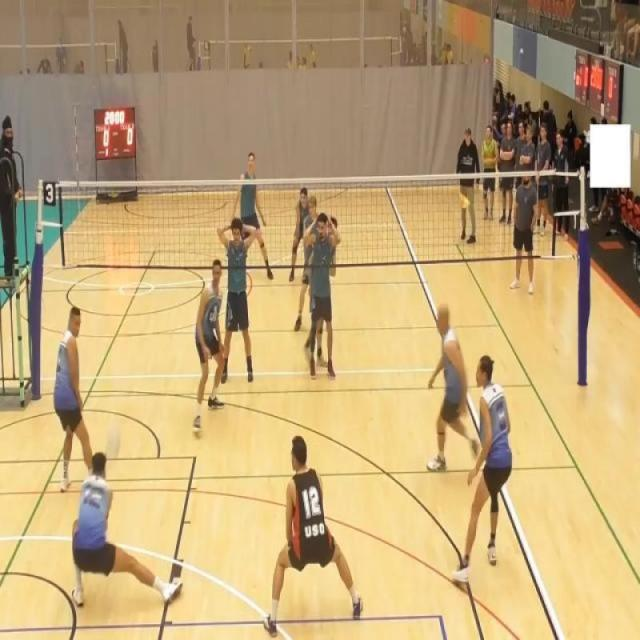volleyball: (104, 425, 122, 459)
